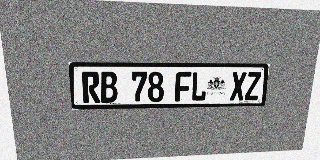7: (131, 72, 147, 102)
8: (148, 72, 164, 102)
B: (100, 71, 118, 103)
F: (175, 72, 191, 101)
L: (191, 72, 207, 101)
R: (81, 71, 100, 103)
X: (230, 72, 247, 101)
Z: (244, 72, 261, 100)
